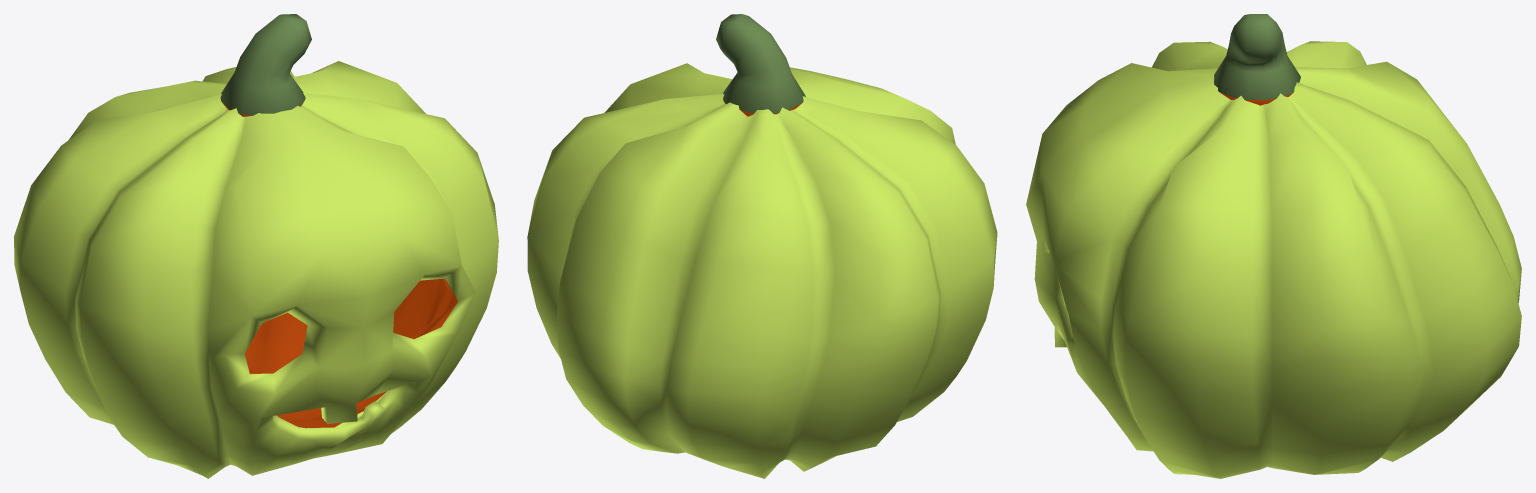
File: pumpkin_2 (1).fbx
The picture shows the model from 3 angles, left to right: view 1: azimuth 30°, elevation 25°; view 2: azimuth 150°, elevation 25°; view 3: azimuth 270°, elevation 25°; orthographic projection. The views are drawn at different scales.
Parts seen in each view (by area): view 1: pumpkin_2; view 2: pumpkin_2; view 3: pumpkin_2.
Boxes of the visible parts, x1,y1,x2,y2 form: pumpkin_2: [14, 14, 498, 478]; pumpkin_2: [527, 14, 997, 478]; pumpkin_2: [1026, 14, 1521, 478].
Size of the model in its own units: 129 by 124 by 126.
